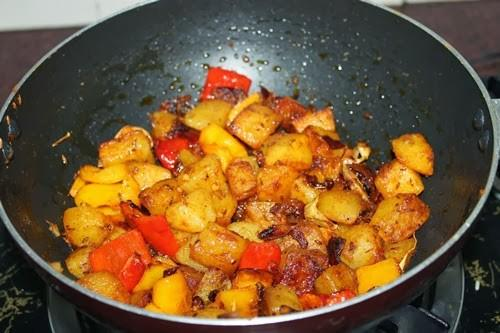AlooMasala: (63, 67, 435, 318)
